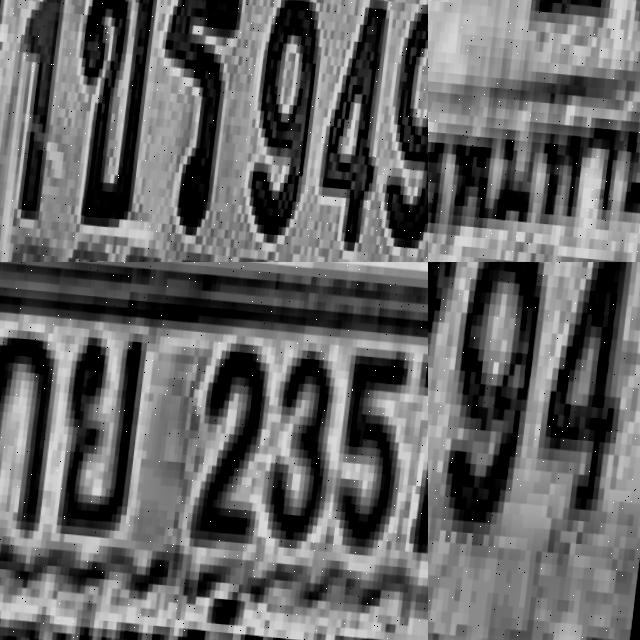license-plate: (0, 262, 428, 640), (0, 0, 428, 262), (428, 262, 640, 640), (428, 0, 640, 262)
